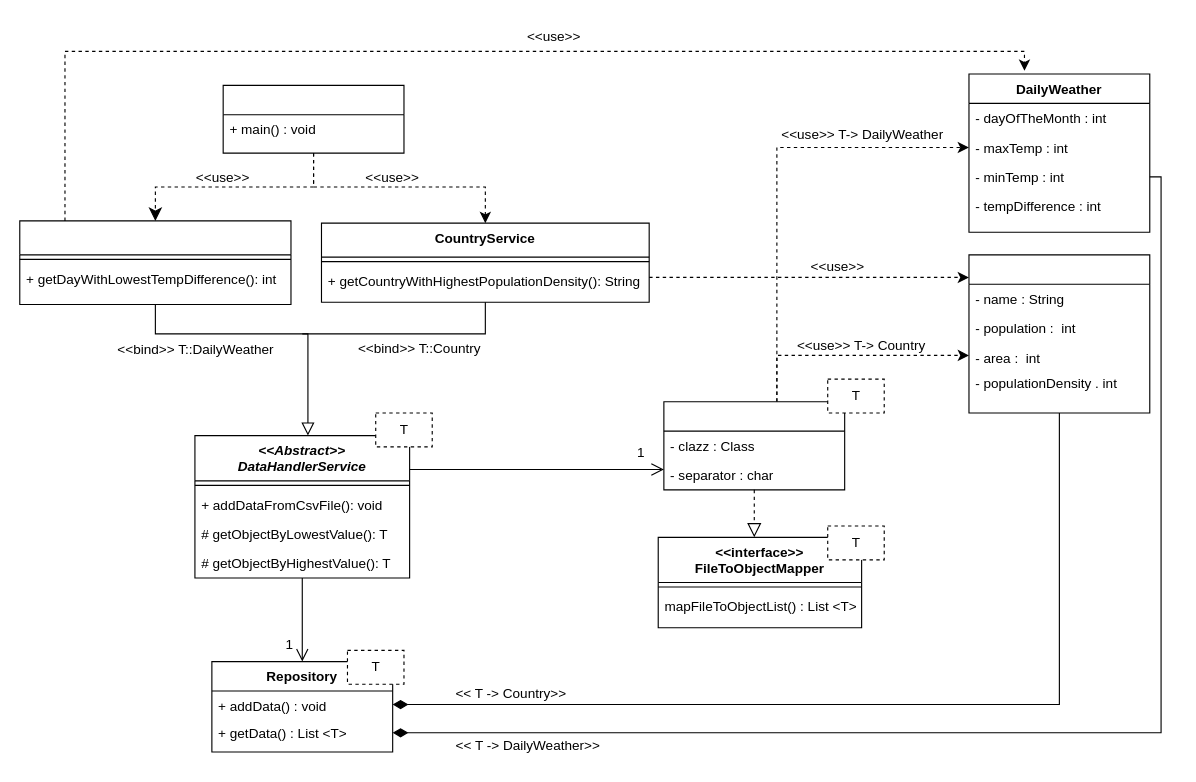
Image size: 1196x782. Some labels were removed from this diagram. The shapes that lost their labels are listed below. From the top down, each one's box as (x1, y1, x2, y2) in pixels, then its label:
(222, 84, 404, 153): App
(19, 220, 291, 305): DailyWeatherService
(968, 254, 1150, 413): Country
(663, 401, 845, 490): CSVToObjectMapper
